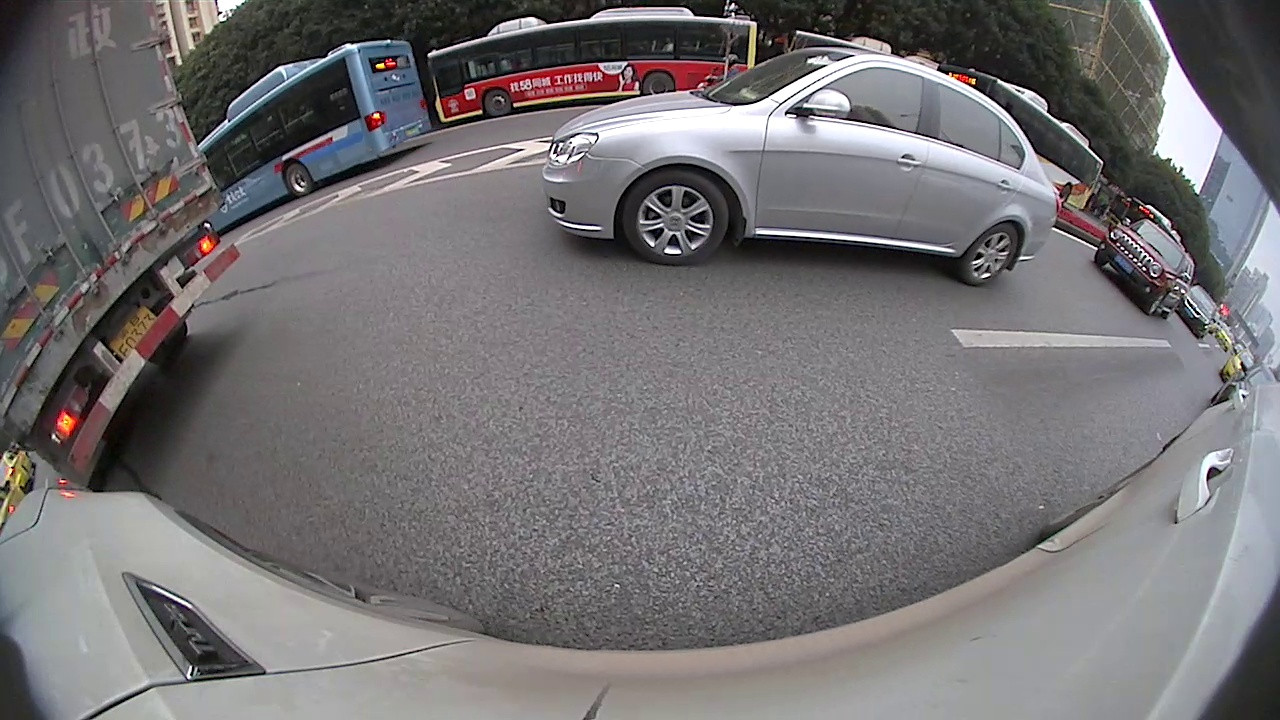bus: (198, 43, 433, 236), (426, 8, 761, 124), (936, 63, 1106, 216)
car: (542, 49, 1059, 289), (1094, 224, 1197, 320), (1177, 284, 1218, 338)
front: (622, 165, 730, 267), (483, 88, 512, 118)
rear: (955, 222, 1020, 289), (285, 162, 314, 199), (641, 70, 676, 96)
truck: (0, 0, 237, 493)
